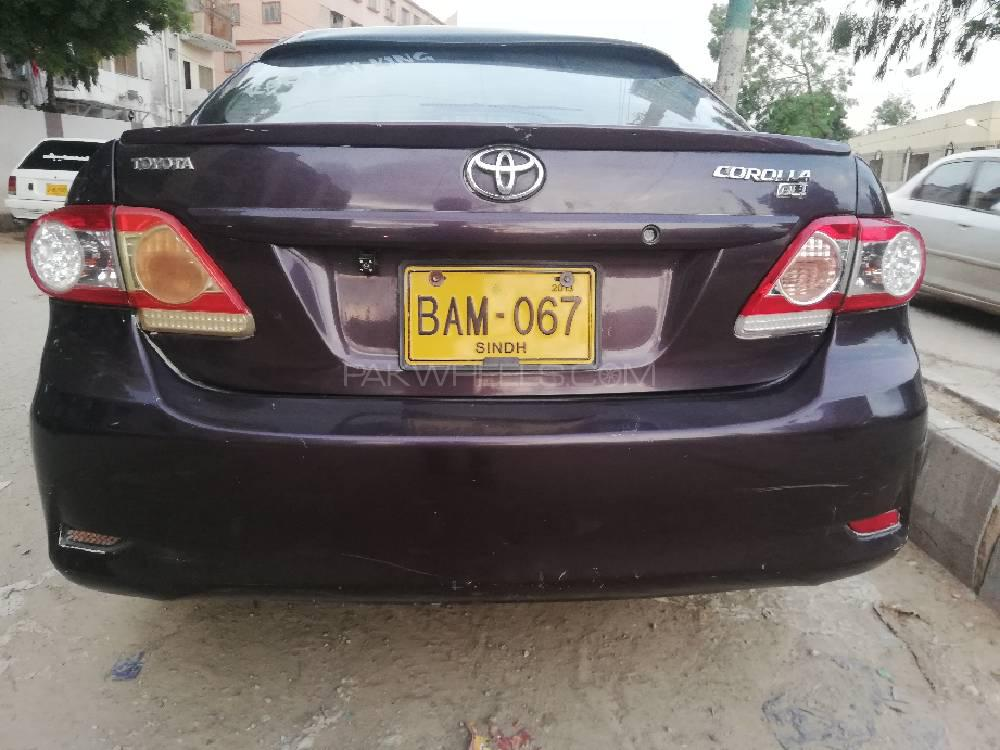license plate: (405, 266, 598, 371)
